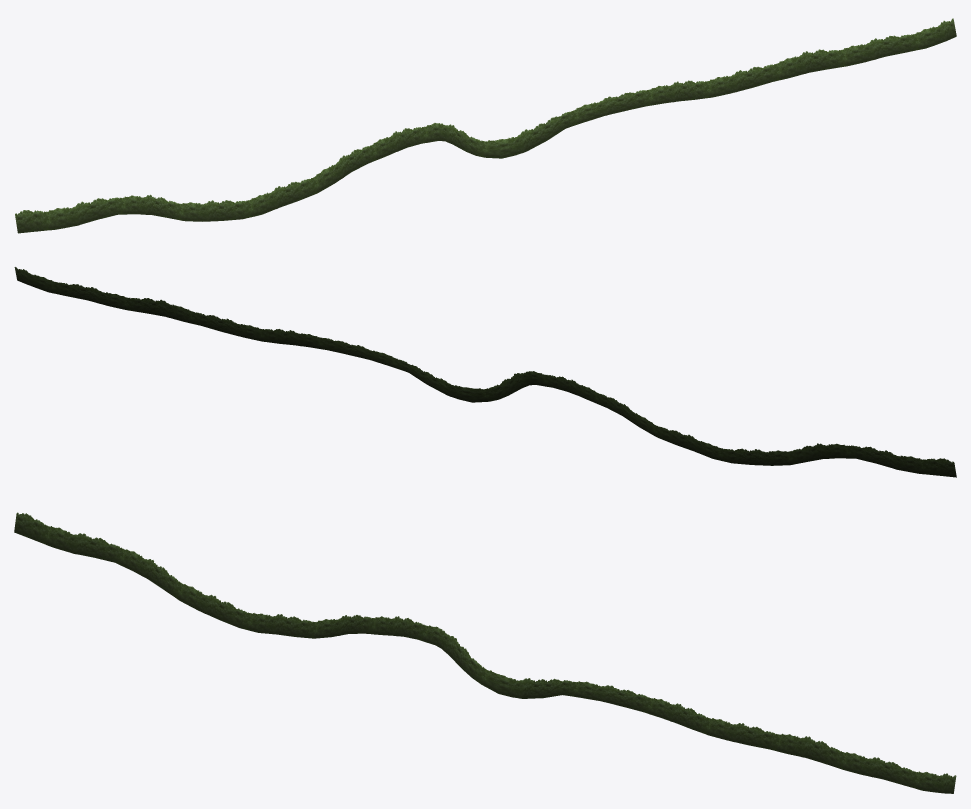
Rendered from Grass Landscape BG.FBX.
3 renders of one model, top to bottom at view 1: azimuth 30°, elevation 25°; view 2: azimuth 150°, elevation 25°; view 3: azimuth 330°, elevation 25°, orthographic.
Parts seen in each view (by area): view 1: LVL1 Grass BG 5, LVL1 Grass BG 1, LVL1 Grass BG 2, LVL1 Grass BG 4, LVL1 Grass BG 3; view 2: LVL1 Grass BG 5, LVL1 Grass BG 1, LVL1 Grass BG 2, LVL1 Grass BG 4, LVL1 Grass BG 3; view 3: LVL1 Grass BG 5, LVL1 Grass BG 1, LVL1 Grass BG 2, LVL1 Grass BG 4, LVL1 Grass BG 3.
Boxes of the visible parts, x1,y1,x2,y2 form: LVL1 Grass BG 5: [693, 18, 956, 99]; LVL1 Grass BG 1: [15, 194, 222, 233]; LVL1 Grass BG 2: [221, 135, 395, 220]; LVL1 Grass BG 4: [523, 80, 694, 151]; LVL1 Grass BG 3: [391, 123, 526, 158]; LVL1 Grass BG 5: [14, 267, 279, 343]; LVL1 Grass BG 1: [748, 443, 956, 477]; LVL1 Grass BG 2: [577, 384, 751, 464]; LVL1 Grass BG 4: [275, 329, 447, 395]; LVL1 Grass BG 3: [444, 371, 578, 402]; LVL1 Grass BG 5: [691, 712, 956, 793]; LVL1 Grass BG 1: [14, 512, 222, 619]; LVL1 Grass BG 2: [219, 601, 393, 638]; LVL1 Grass BG 4: [523, 678, 695, 728]; LVL1 Grass BG 3: [392, 616, 526, 698].
Bounding box in the file's own units: 18352 × 140 × 1249.
